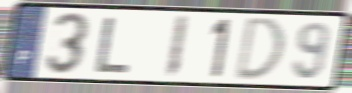1: (209, 17, 231, 79)
3: (43, 11, 92, 76)
9: (290, 20, 331, 82)
D: (232, 15, 287, 83)
I: (162, 14, 191, 81)
L: (93, 15, 133, 75)
